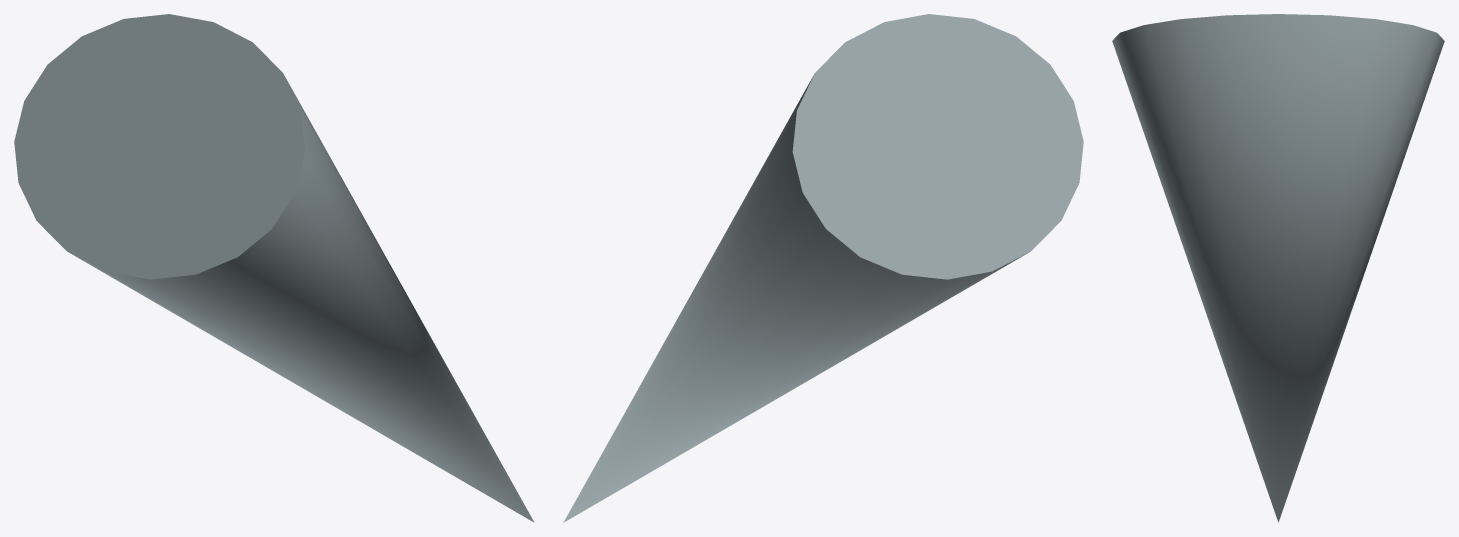
File: wingRS.obj
3 renders of one model, left to right at view 1: azimuth 30°, elevation 25°; view 2: azimuth 150°, elevation 25°; view 3: azimuth 270°, elevation 25°, orthographic. The views are drawn at different scales.
Parts seen in each view (by area): view 1: alaR; view 2: alaR; view 3: alaR.
Boxes of the visible parts, bbox=[...] form: alaR: bbox=[14, 14, 534, 522]; alaR: bbox=[563, 14, 1083, 522]; alaR: bbox=[1112, 14, 1444, 522].
Bounding box in the file's own units: 0.9629 × 1.08 × 0.8.
